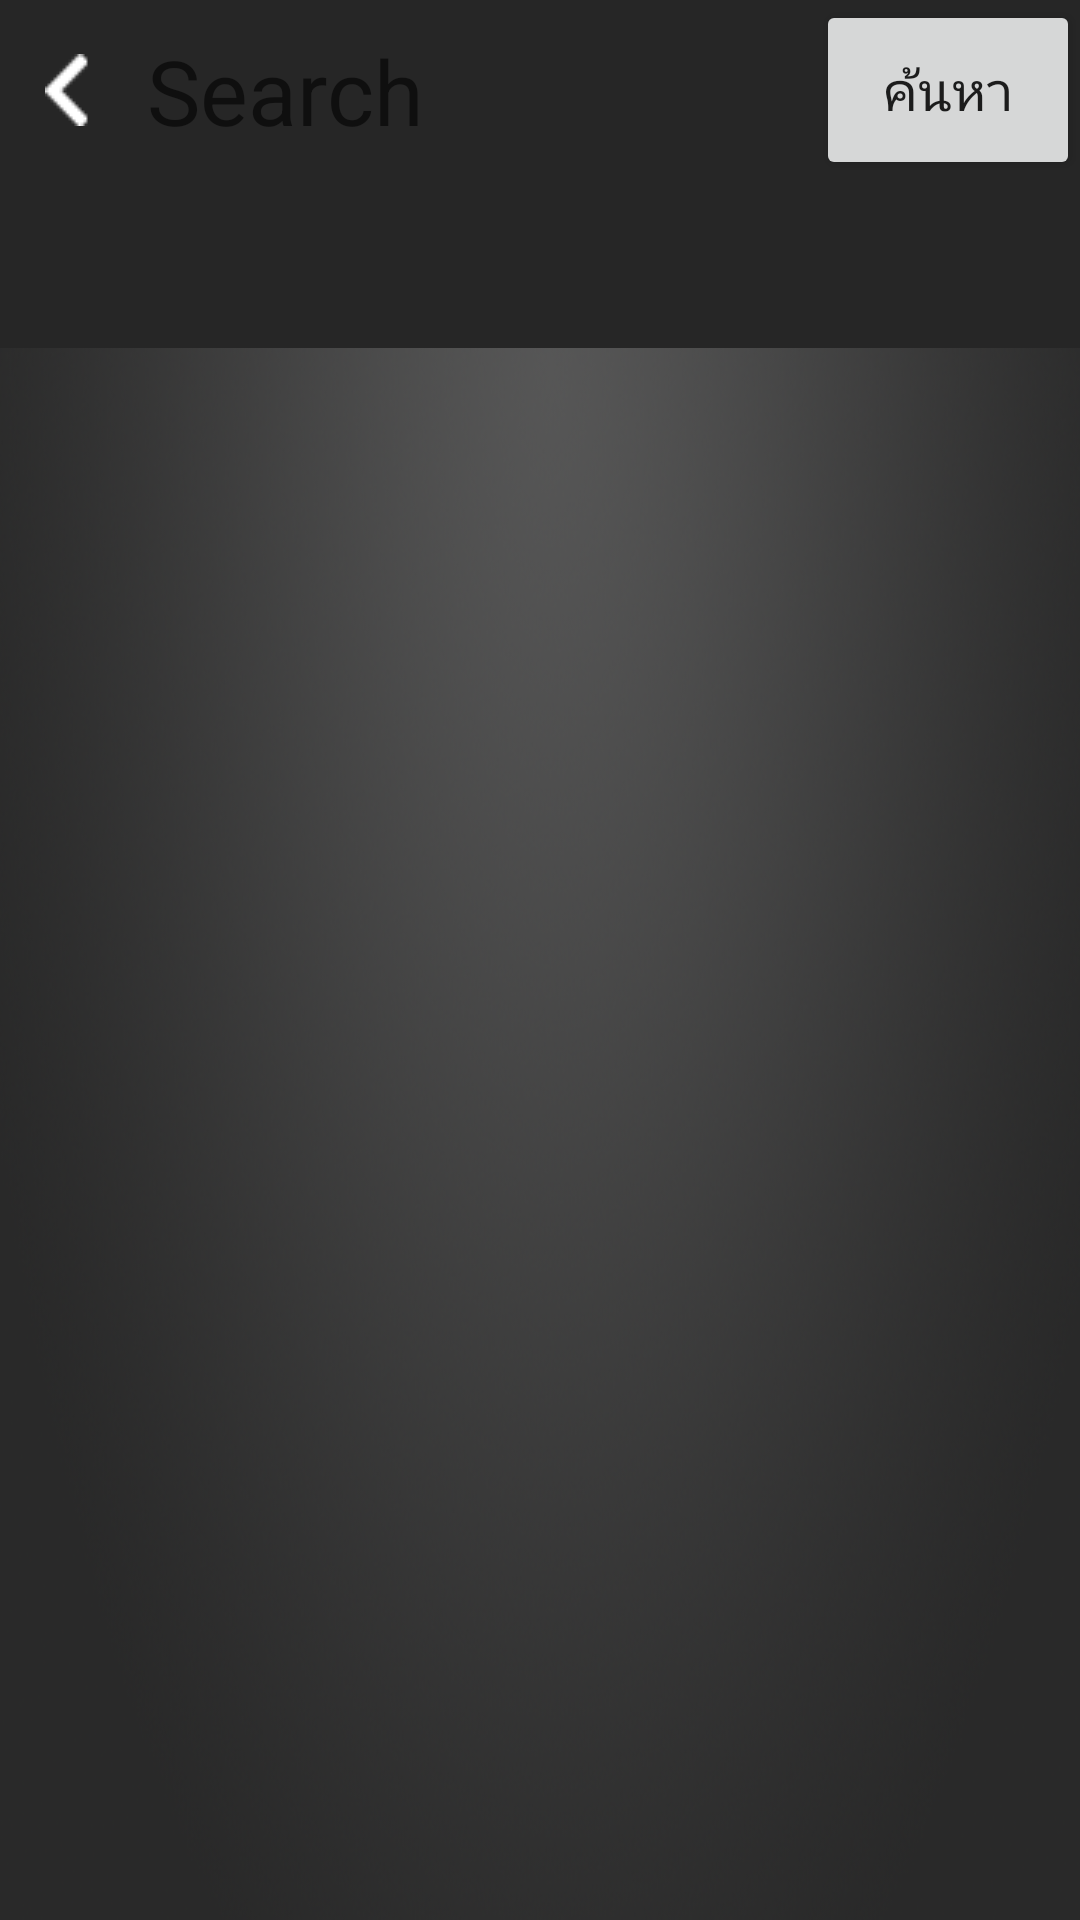

Screen size 1080 × 1920. Icon name, then its box in pixels as bbox=(x1, y1, x2, y2):
back: bbox=(45, 54, 88, 126)
